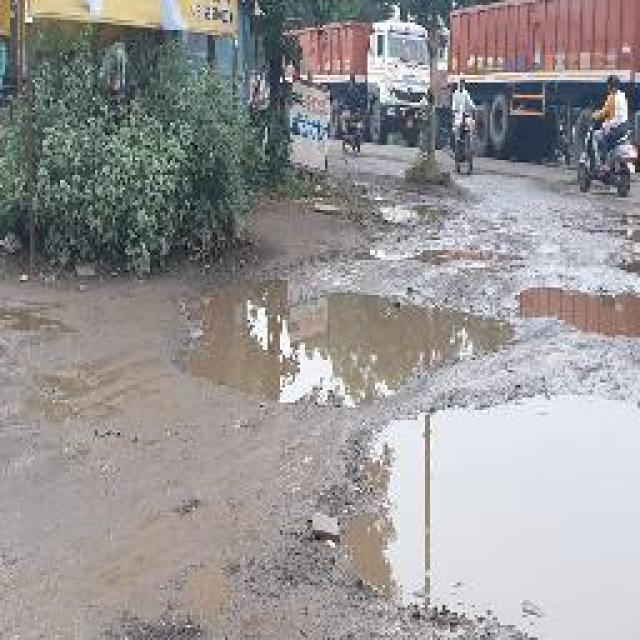stagnation: (323, 422, 640, 640), (162, 276, 522, 414)
